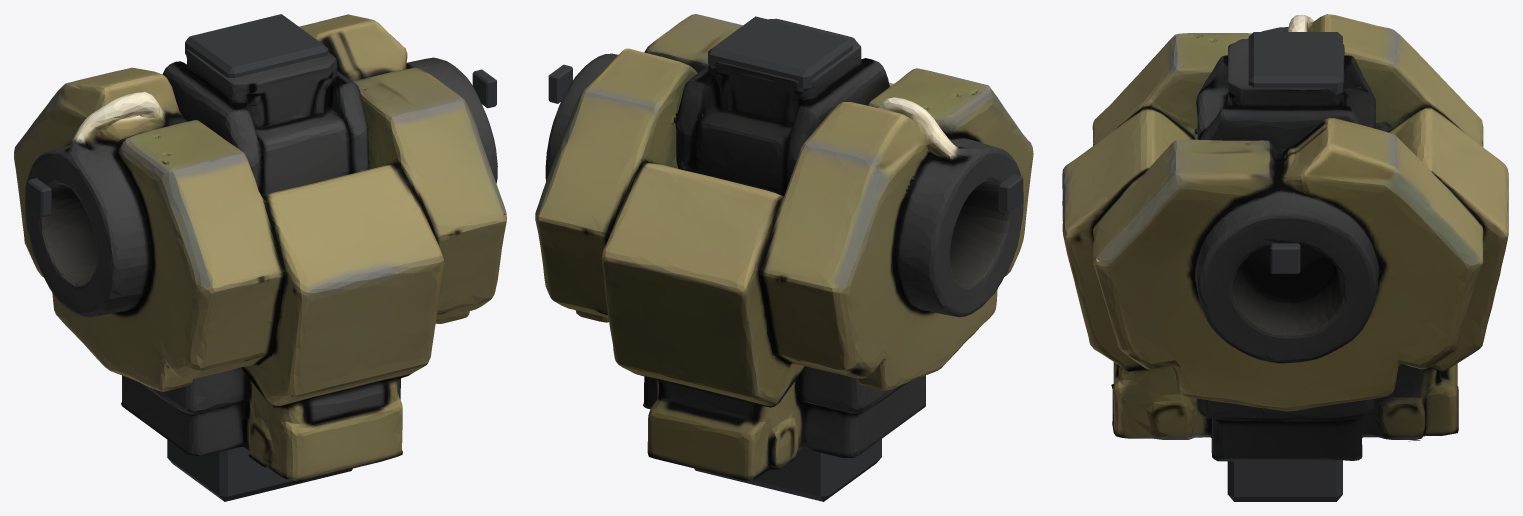
The model's file is medium_mech_core.glb.
3 views of the same model, side by side, from view 1: azimuth 30°, elevation 25°; view 2: azimuth 150°, elevation 25°; view 3: azimuth 270°, elevation 25° (orthographic). The views are drawn at different scales.
Visible parts, largest first — view 1: md_torso, md_torso_frame, md_neck_collar, md_waist, md_shoulder_mount_R, md_shoulder_mount_L; view 2: md_torso, md_torso_frame, md_neck_collar, md_waist, md_shoulder_mount_R, md_shoulder_mount_L; view 3: md_torso, md_torso_frame, md_neck_collar, md_waist, md_shoulder_mount_L.
Part boxes in pixels (x1,y1,x2,y2): md_torso: [14, 14, 506, 481]; md_torso_frame: [41, 37, 497, 483]; md_neck_collar: [185, 14, 328, 78]; md_waist: [167, 440, 352, 501]; md_shoulder_mount_R: [27, 178, 51, 216]; md_shoulder_mount_L: [472, 69, 496, 108]; md_torso: [535, 14, 1033, 480]; md_torso_frame: [545, 46, 1007, 479]; md_neck_collar: [708, 16, 852, 90]; md_waist: [694, 439, 881, 501]; md_shoulder_mount_R: [998, 174, 1023, 213]; md_shoulder_mount_L: [548, 64, 572, 103]; md_torso: [1062, 14, 1508, 452]; md_torso_frame: [1111, 44, 1454, 461]; md_neck_collar: [1248, 32, 1342, 96]; md_waist: [1227, 460, 1342, 501]; md_shoulder_mount_L: [1270, 243, 1300, 273].
Bounding box in the file's own units: 4.97 × 4.4 × 4.26.
Materials: 3 (2 with a texture image).
